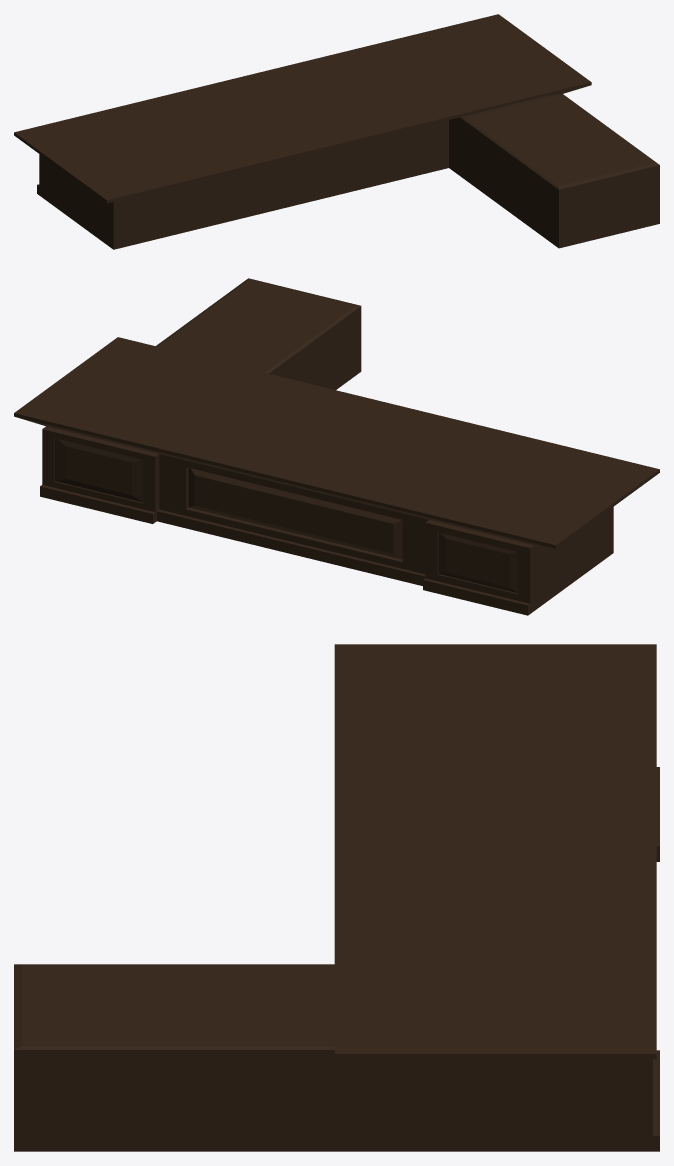
Rendered from BossDesk.fbx.
3 views of the same model, one above another, from view 1: azimuth 30°, elevation 25°; view 2: azimuth 150°, elevation 25°; view 3: azimuth 270°, elevation 25° (orthographic). The views are drawn at different scales.
Parts seen in each view (by area): view 1: pCube1; view 2: pCube1; view 3: pCube1.
Part boxes in pixels (box(x1,y1,x2,y2)): pCube1: box(14, 14, 659, 249); pCube1: box(14, 278, 659, 615); pCube1: box(14, 644, 659, 1151).
Bounding box in the file's own units: 25.34 × 3.4 × 16.89.
